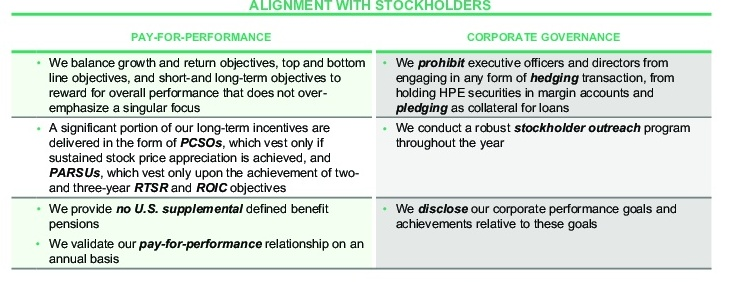table: (0, 0, 730, 282)
